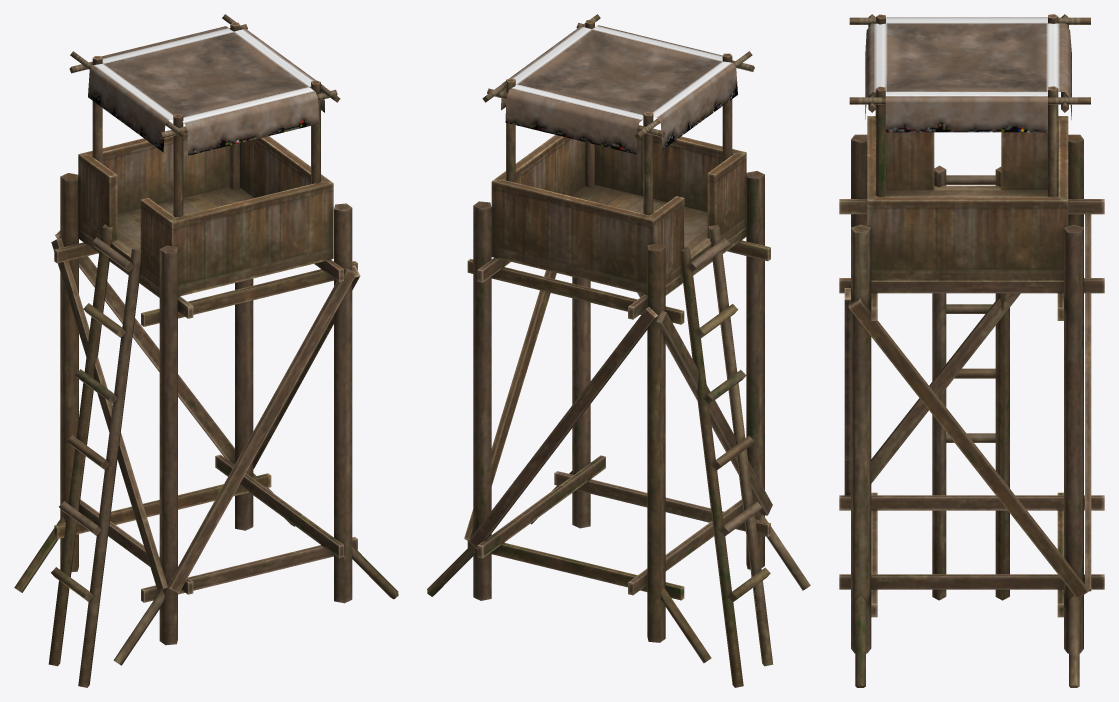
The model's file is 70-sentrytower.glb.
3 views of the same model, side by side, from view 1: azimuth 30°, elevation 25°; view 2: azimuth 150°, elevation 25°; view 3: azimuth 270°, elevation 25° (orthographic). The views are drawn at different scales.
Size of the model in its own units: 2.77 by 5.33 by 2.08.
Materials: 1 (1 with a texture image).
